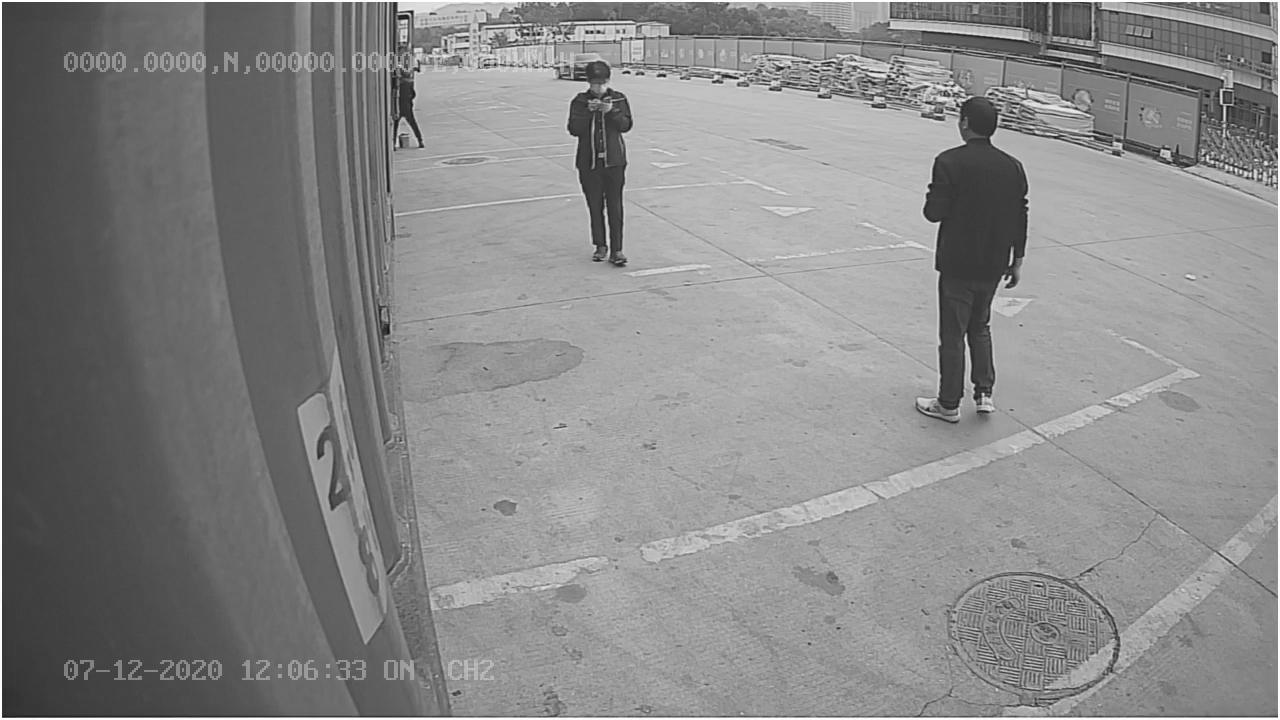person: (908, 87, 1034, 421)
